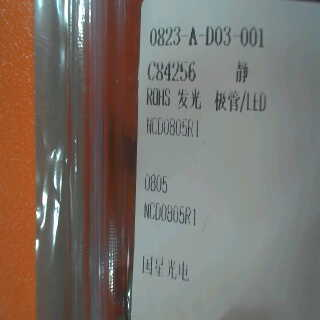LED: (174, 86, 279, 111)
